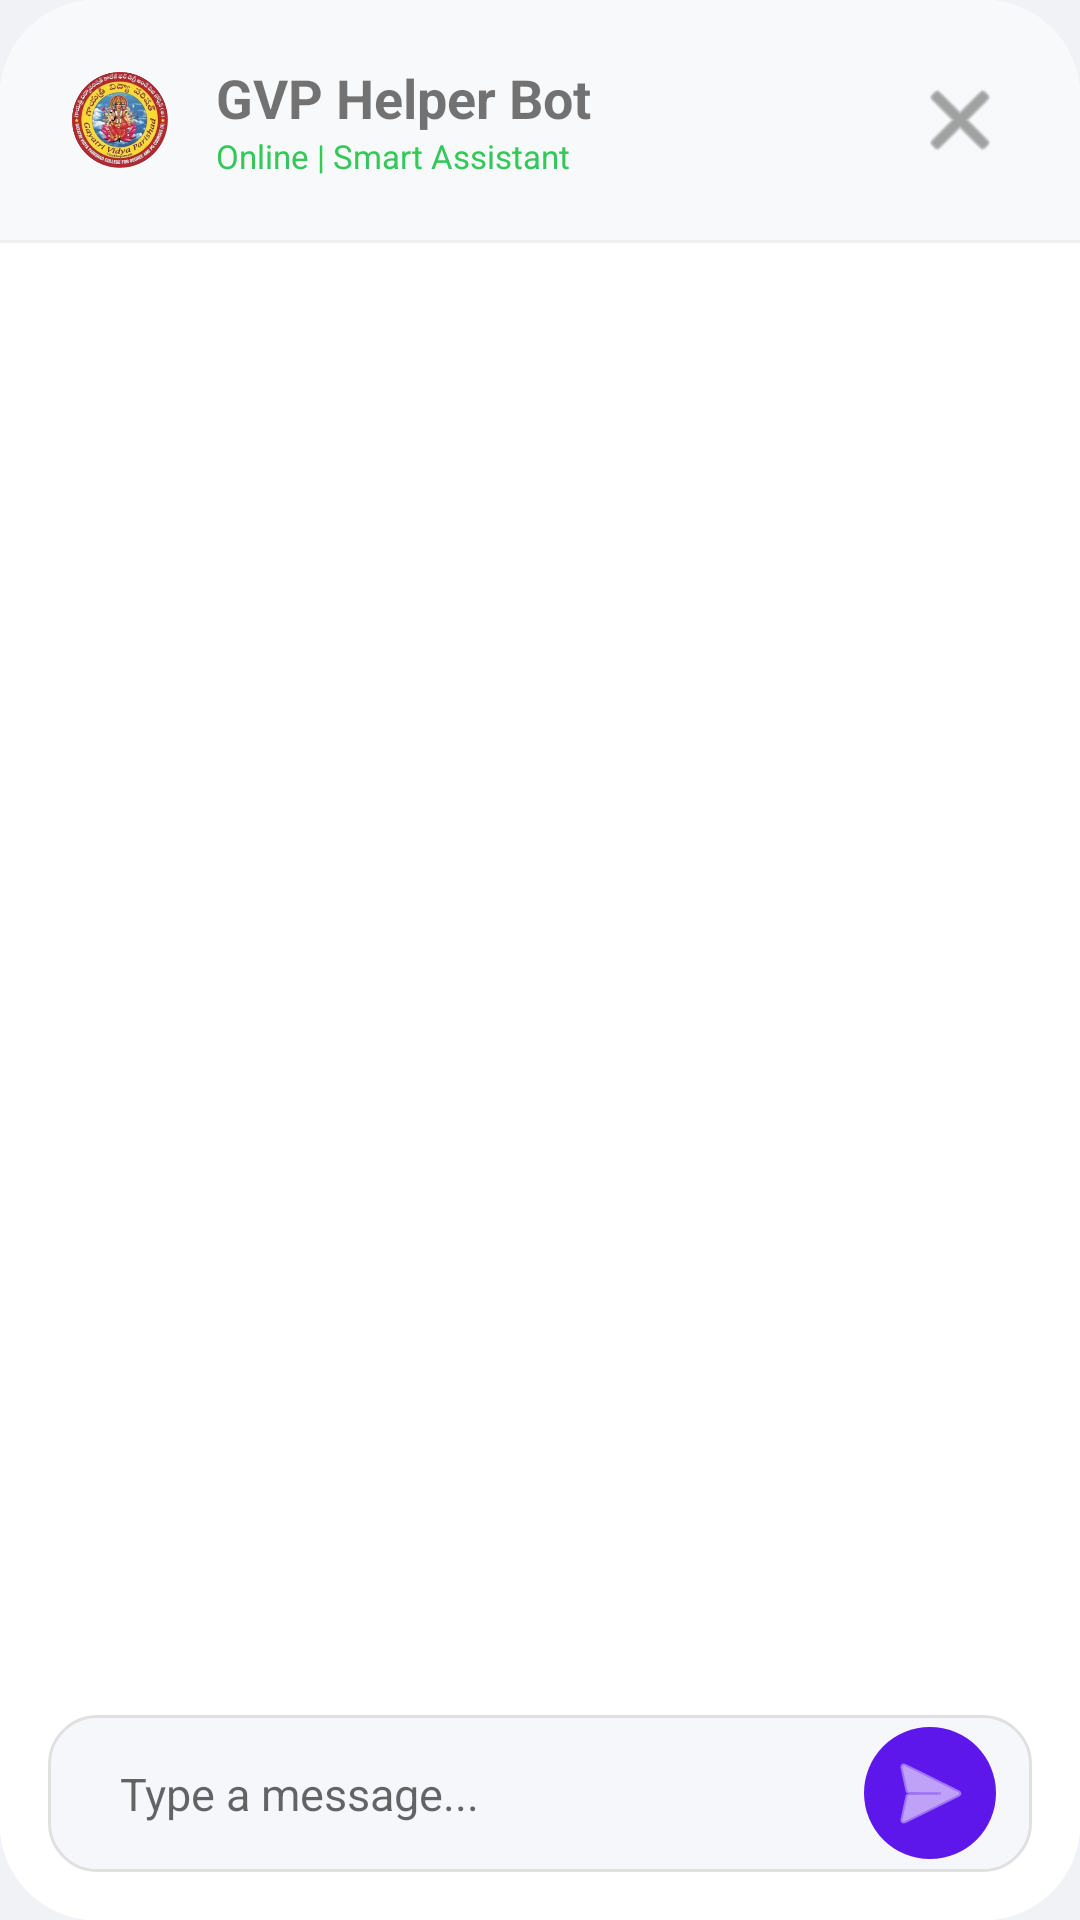

Icon bounding boxes for this 1080 × 1920 phone screenshot, format (x1, y1, x2, y2):
close clear cancel: (930, 90, 990, 150)
send: (864, 1727, 996, 1859)
